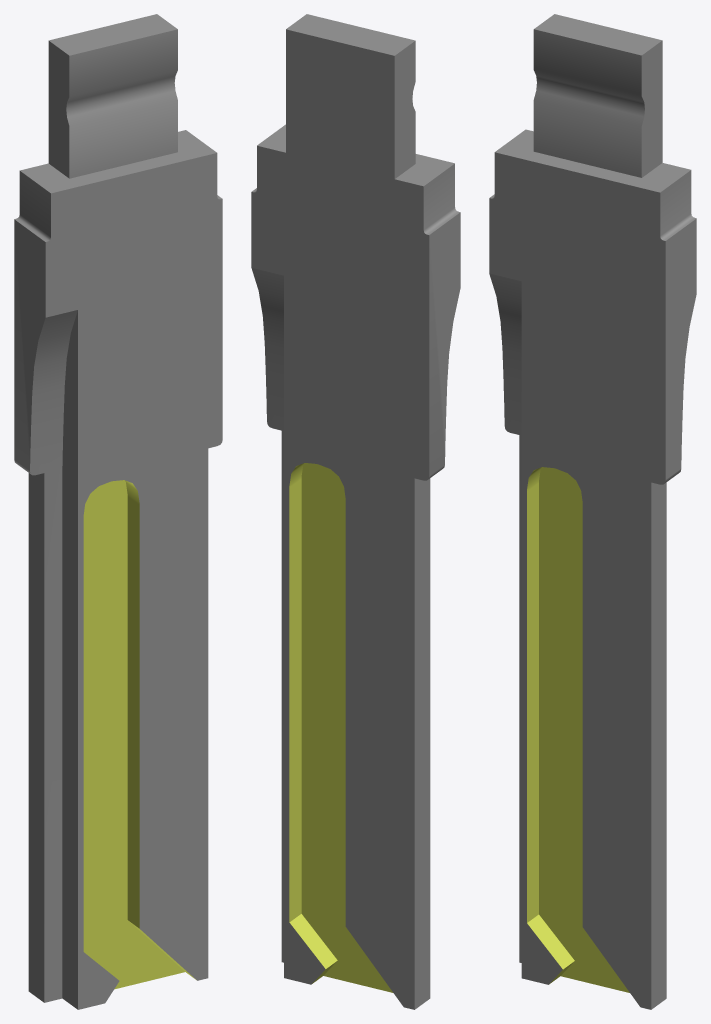
3 views of the same model, side by side, from view 1: azimuth 30°, elevation 25°; view 2: azimuth 150°, elevation 25°; view 3: azimuth 330°, elevation 25° (orthographic).
Visible parts, largest first — view 1: beifen3; view 2: beifen3; view 3: beifen3.
Boxes of the visible parts, x1,y1,x2,y2 form: beifen3: (14,14,222,1009); beifen3: (251,14,460,1009); beifen3: (489,14,696,1009).
Bounding box in the file's own units: 9.8 × 50 × 3.
